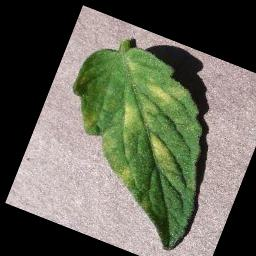Leaf_Mold: (139, 73, 191, 115), (114, 92, 161, 137), (138, 132, 183, 173), (111, 160, 144, 193), (96, 130, 121, 155)
